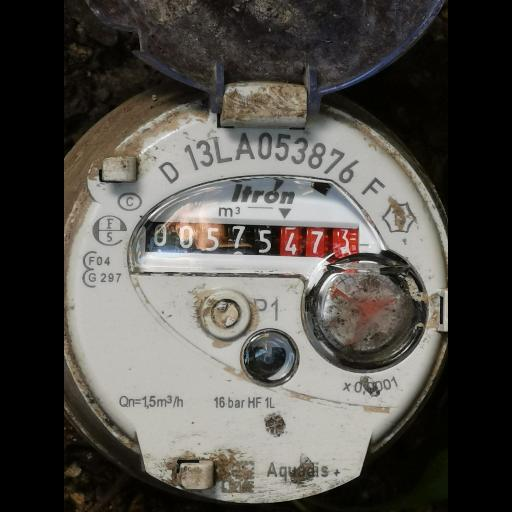0: (177, 222, 197, 254), (151, 221, 170, 253)
3: (333, 227, 359, 259)
4: (282, 226, 302, 256)
5: (202, 222, 222, 255), (256, 224, 275, 256)
7: (228, 224, 248, 257), (308, 227, 325, 258)
border_water_meter_number: (144, 216, 361, 266)
